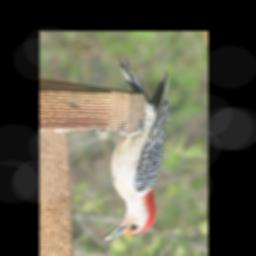Woodpecker: (100, 55, 168, 243)
